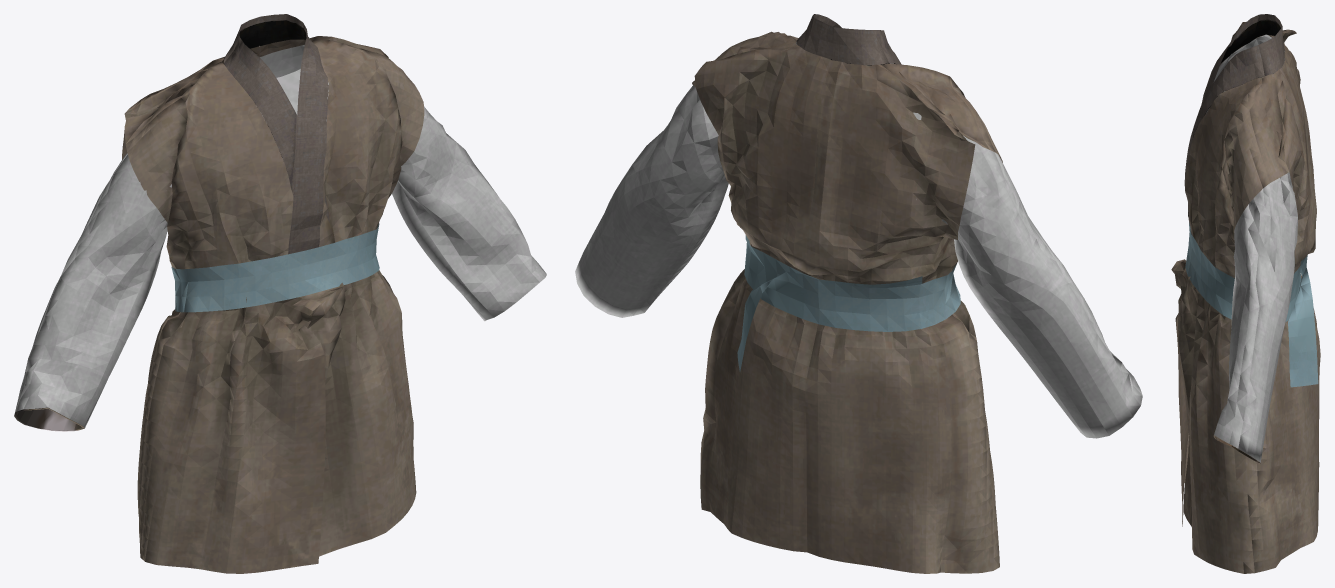
The model's file is Merchant_Torso.dae.
3 views of the same model, side by side, from view 1: azimuth 30°, elevation 25°; view 2: azimuth 150°, elevation 25°; view 3: azimuth 270°, elevation 25° (orthographic). The views are drawn at different scales.
Parts seen in each view (by area): view 1: Merchant_Torso; view 2: Merchant_Torso; view 3: Merchant_Torso.
Part boxes in pixels (x1,y1,x2,y2): Merchant_Torso: [14, 14, 546, 573]; Merchant_Torso: [575, 14, 1142, 573]; Merchant_Torso: [1171, 14, 1320, 573].
Bounding box in the file's own units: 0.8701 × 0.217 × 0.799.
1 material, 1 textured.
